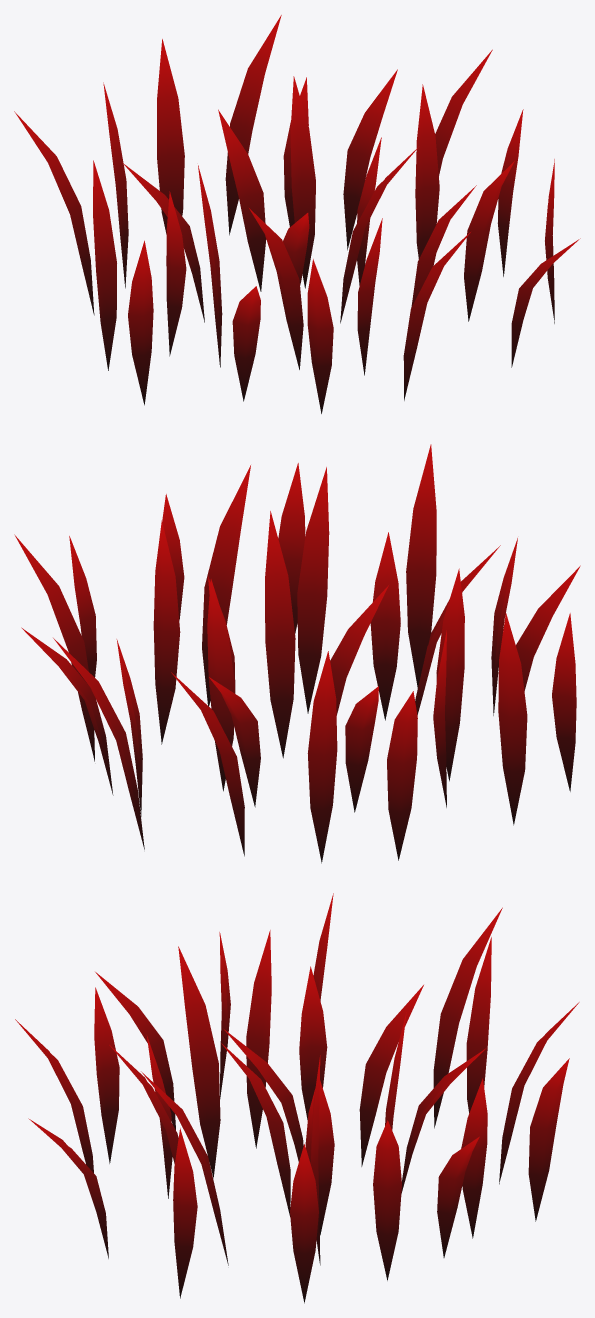
Rendered from grass.fbx.
The picture shows the model from 3 angles, top to bottom: view 1: azimuth 30°, elevation 25°; view 2: azimuth 150°, elevation 25°; view 3: azimuth 270°, elevation 25°; orthographic projection. The views are drawn at different scales.
Visible parts, largest first — view 1: Grass; view 2: Grass; view 3: Grass.
Boxes of the visible parts, <box> form: Grass: <box>14,15,580,413</box>; Grass: <box>14,444,580,863</box>; Grass: <box>15,893,579,1303</box>.
Size of the model in its own units: 2.68 by 1.2 by 2.89.
